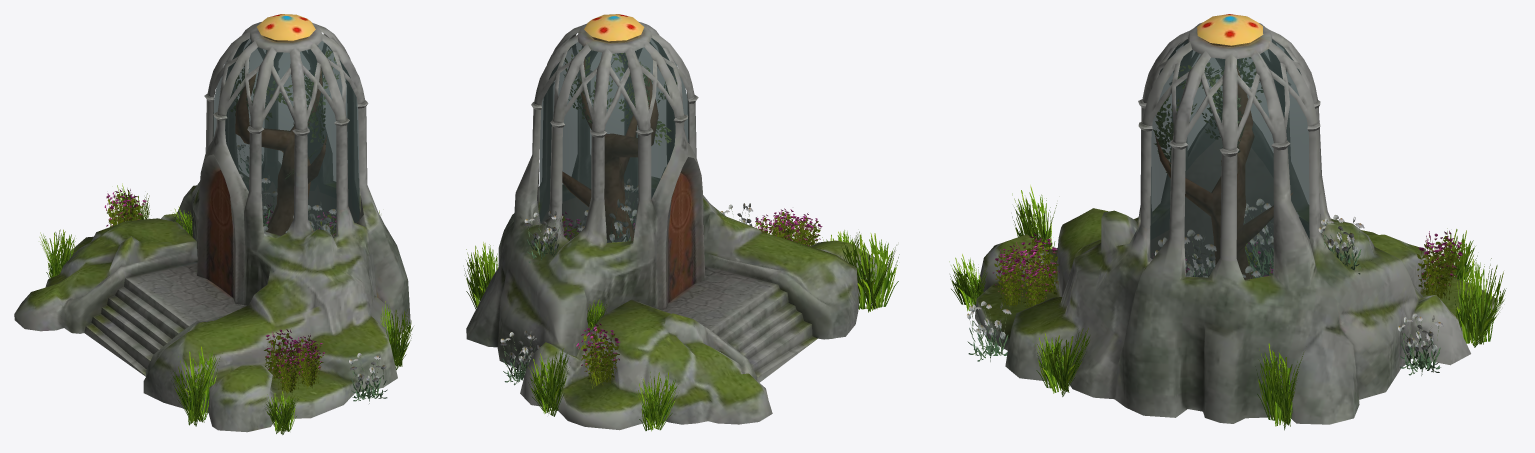
Rendered from BLD_PeaGreenhouse.glb.
3 views of the same model, side by side, from view 1: azimuth 30°, elevation 25°; view 2: azimuth 150°, elevation 25°; view 3: azimuth 270°, elevation 25° (orthographic). The views are drawn at different scales.
Parts seen in each view (by area): view 1: 0_Orange_0, RetopoGroup1_Glass_0; view 2: 0_Orange_0, RetopoGroup1_Glass_0; view 3: 0_Orange_0, RetopoGroup1_Glass_0.
Boxes of the visible parts, bbox=[...] form: 0_Orange_0: bbox=[14, 14, 413, 434]; RetopoGroup1_Glass_0: bbox=[213, 38, 359, 236]; 0_Orange_0: bbox=[464, 14, 899, 431]; RetopoGroup1_Glass_0: bbox=[539, 38, 688, 242]; 0_Orange_0: bbox=[949, 14, 1506, 430]; RetopoGroup1_Glass_0: bbox=[1150, 39, 1309, 279].
Size of the model in its own units: 525 by 460 by 673.
2 materials, 1 textured.
